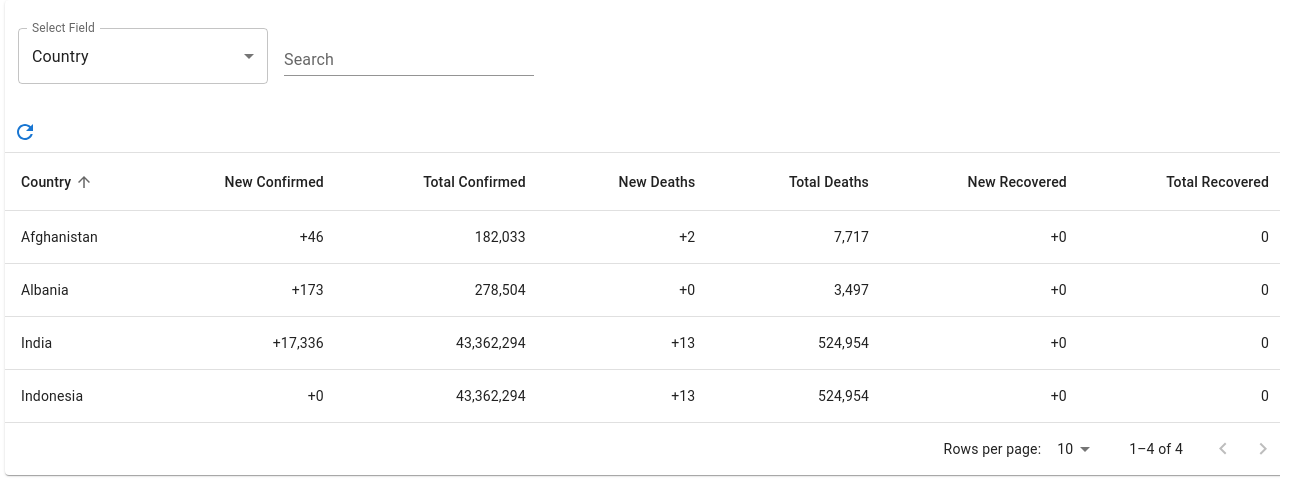
Scenario: Covid Table › should sort the "NewConfirmed" in "desc" order and the first item after sort should be "+17,336"
Click the button with test id "NewConfirmed".
click(274, 182)  # box [225, 174, 324, 190]
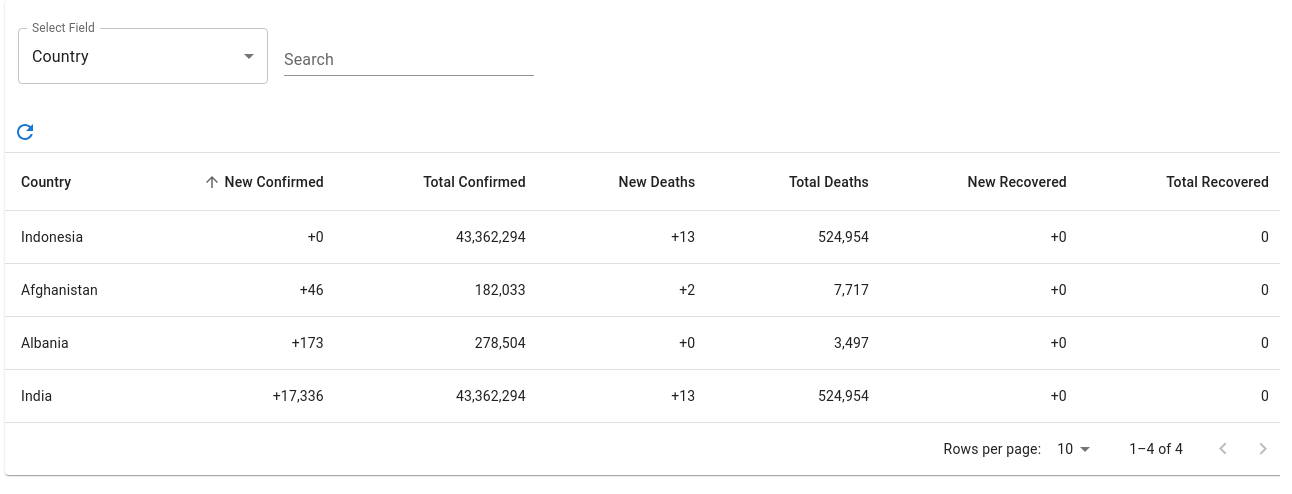
Click the button with test id "NewConfirmed".
click(261, 182)  # box [199, 170, 324, 194]
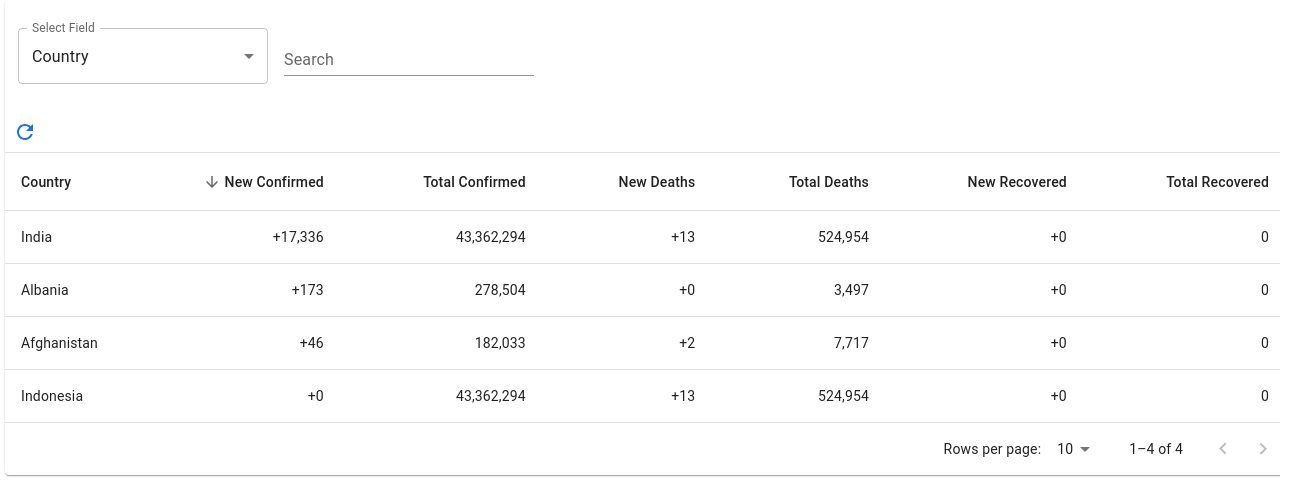
Check: the cell with test id "new-confirmed" reads "+17,336", box [142, 211, 340, 264]
